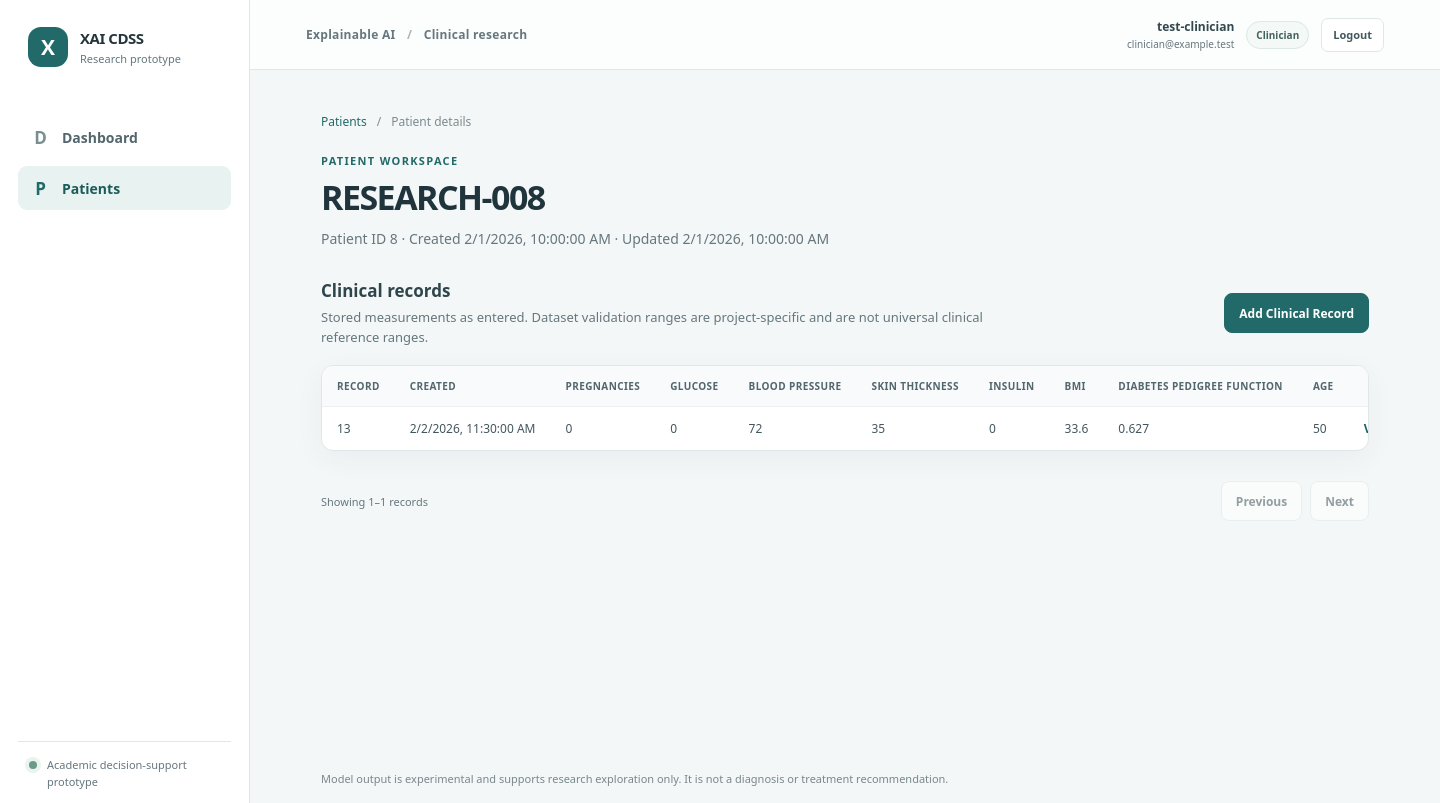
Test: patient management UI › creates a record and preserves accepted zero values
The image size is (1440, 803).
Click the button "Add Clinical Record". click: [1297, 313]
box: [1224,293,1369,333]
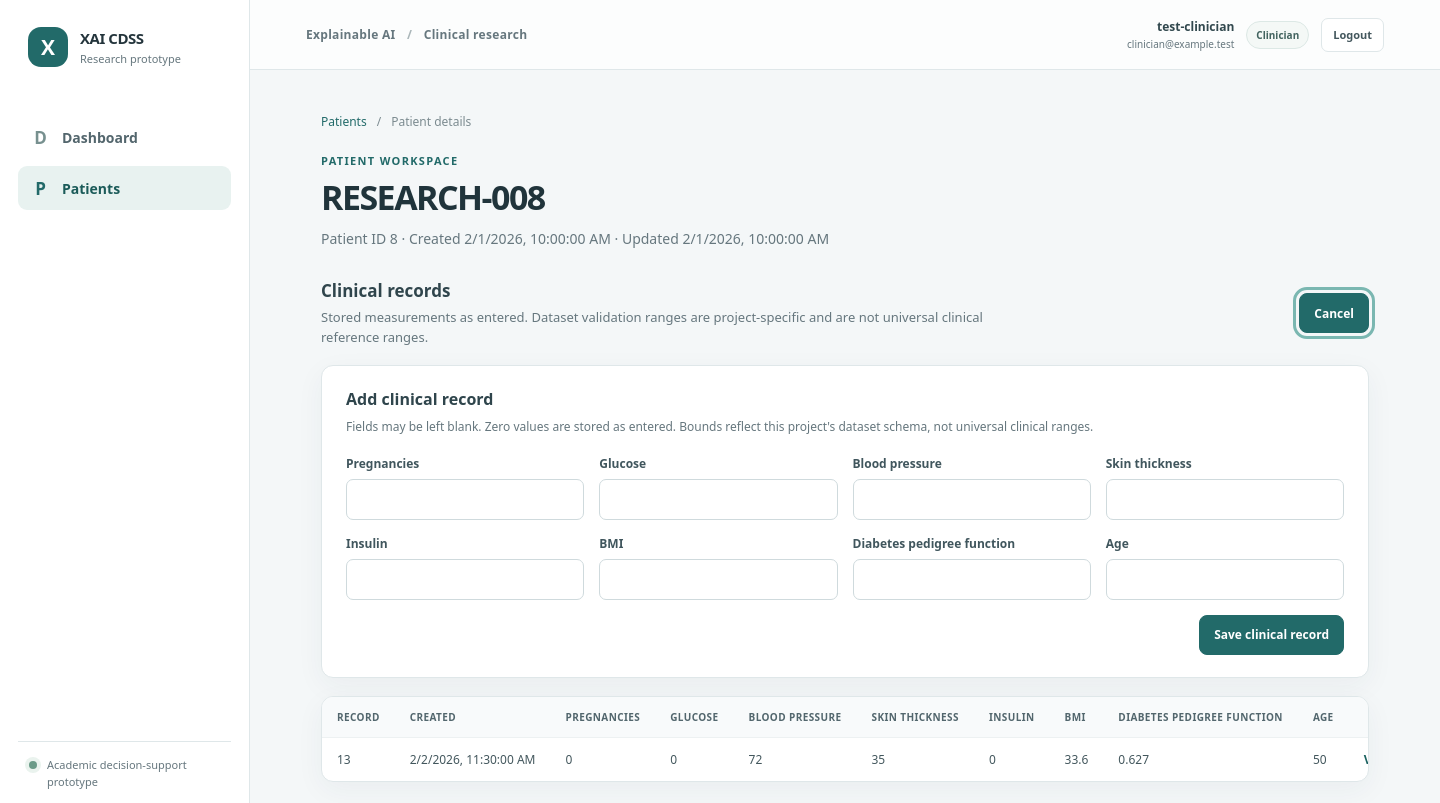
Type "0" into the number field labelled "Pregnancies". click: [465, 499]
box: [346,479,584,520]
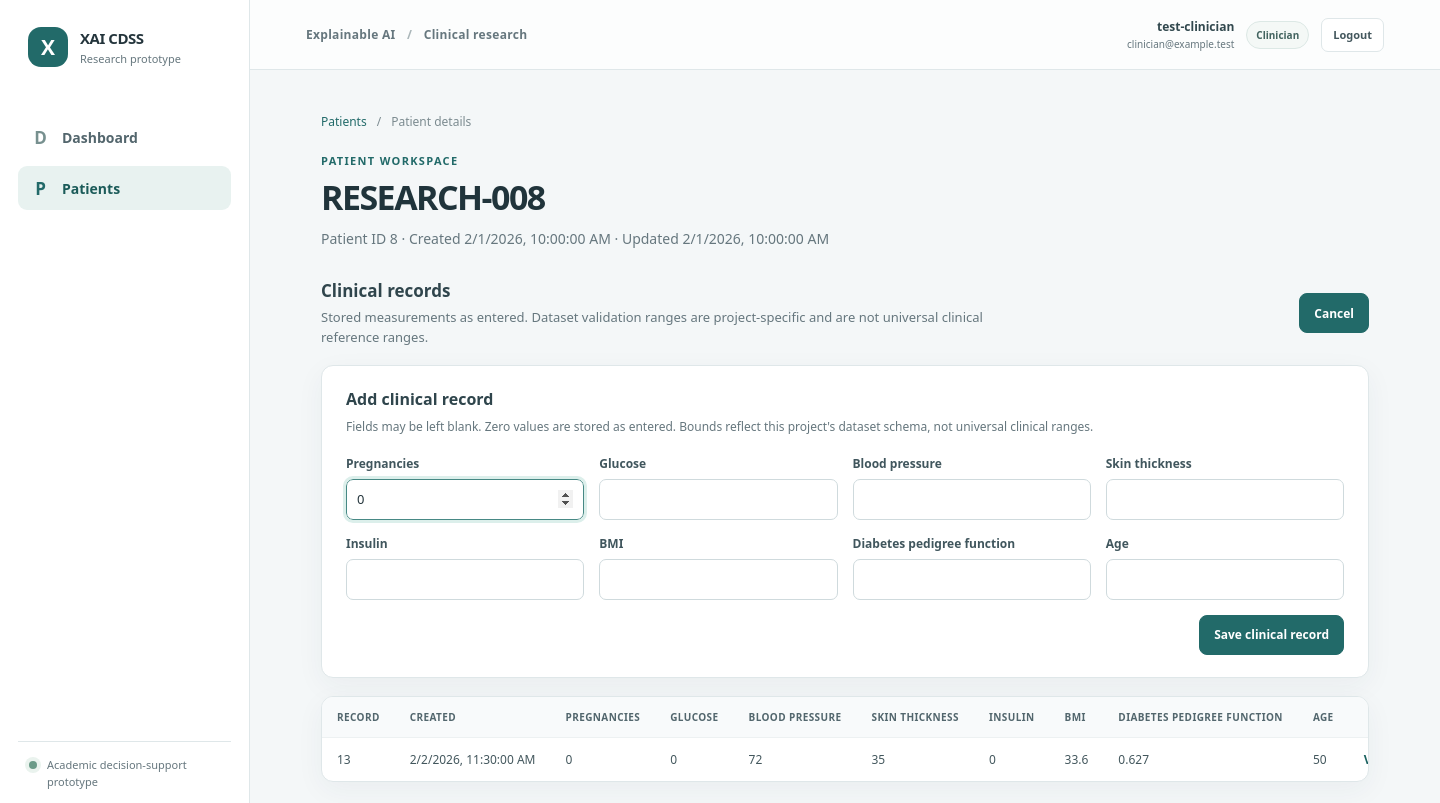
Type "0" into the number field labelled "Glucose". click: [718, 499]
box: [599,479,838,520]
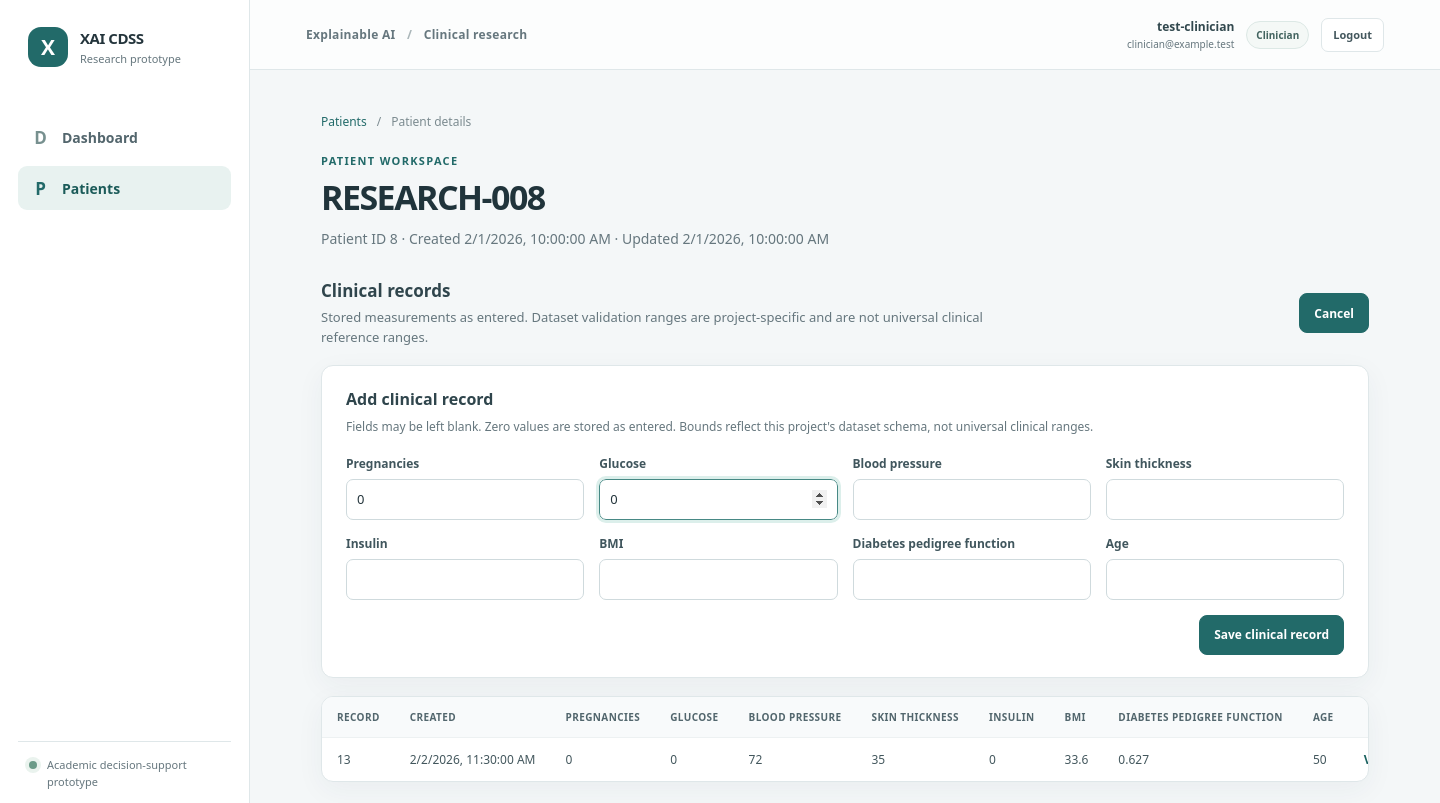
Type "0" into the number field labelled "Insulin". click: [465, 579]
box: [346,559,584,600]
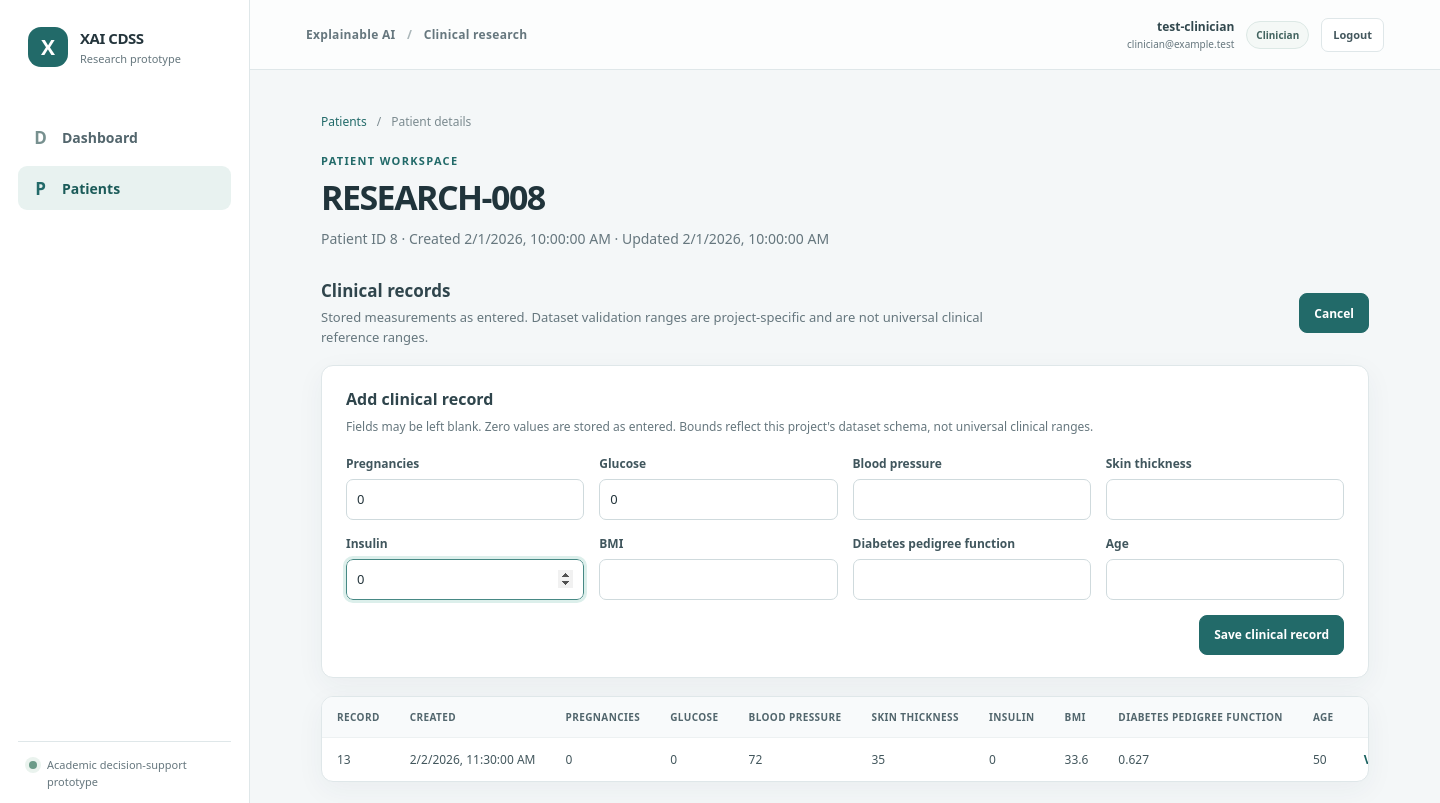
Click the button "Save clinical record". click: [1272, 635]
box: [1199,615,1344,655]
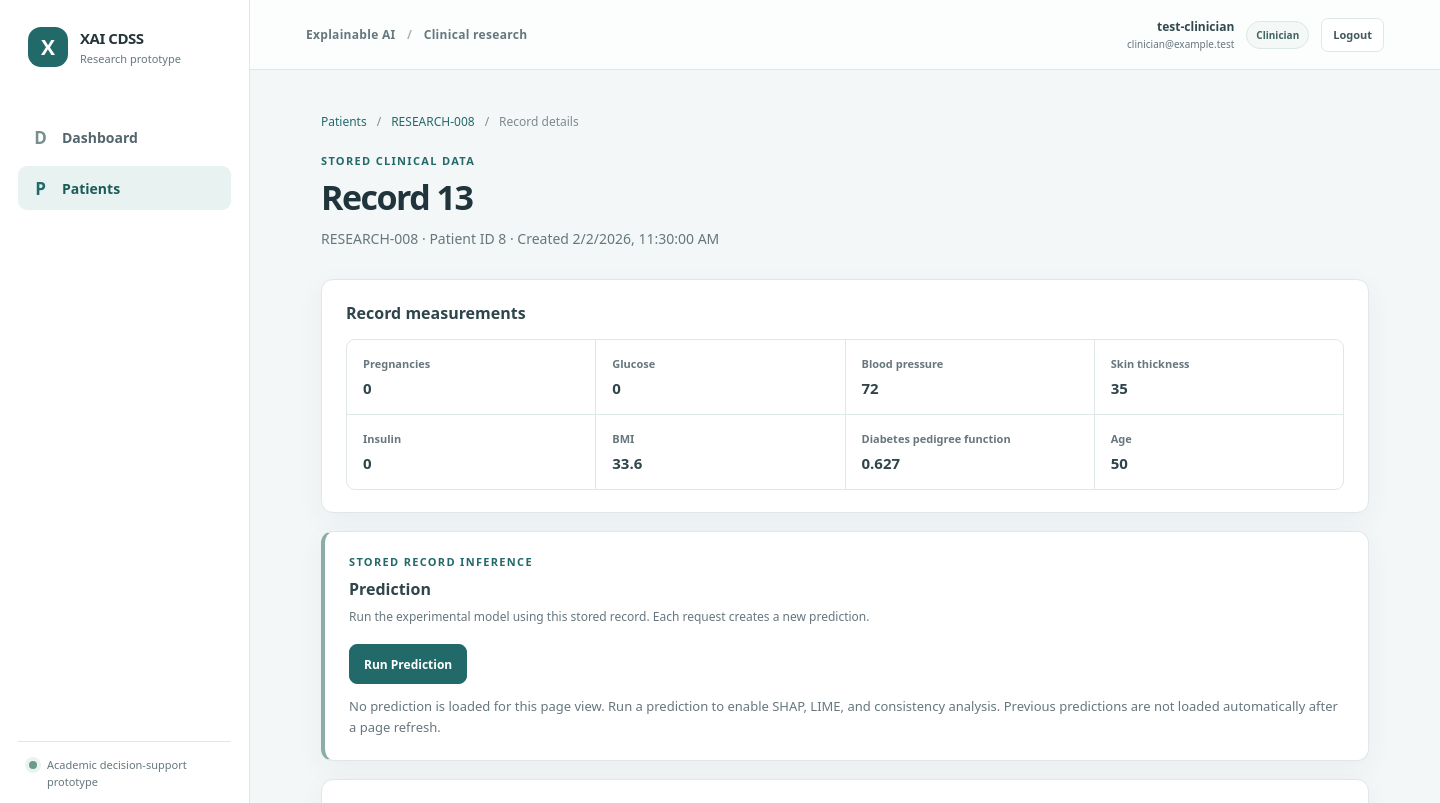
Expected: the heading "Record 13" is shown, [321,174,472,220]
